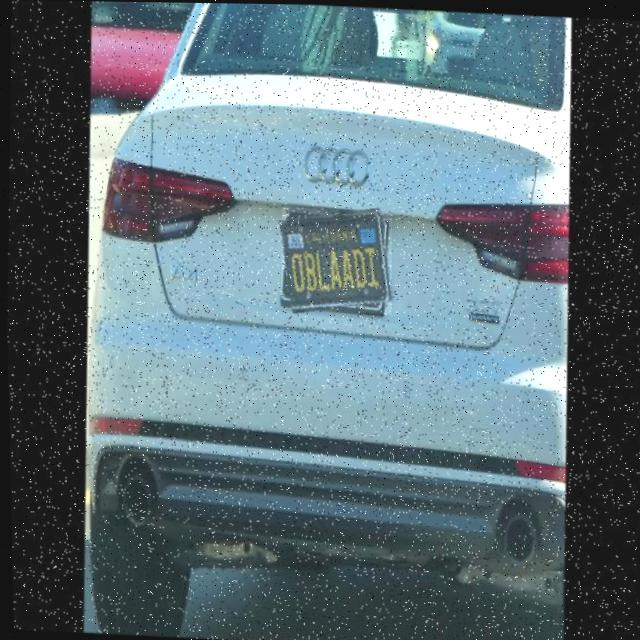LicensePlate: (277, 206, 393, 313)
